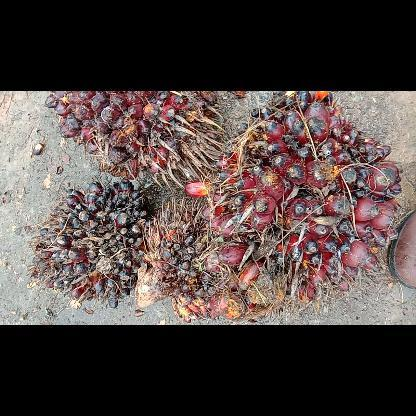Kurang masak: (205, 90, 401, 312)
TBS abnormal: (26, 177, 154, 305), (135, 195, 217, 321)
TBS masak: (44, 90, 226, 192)
